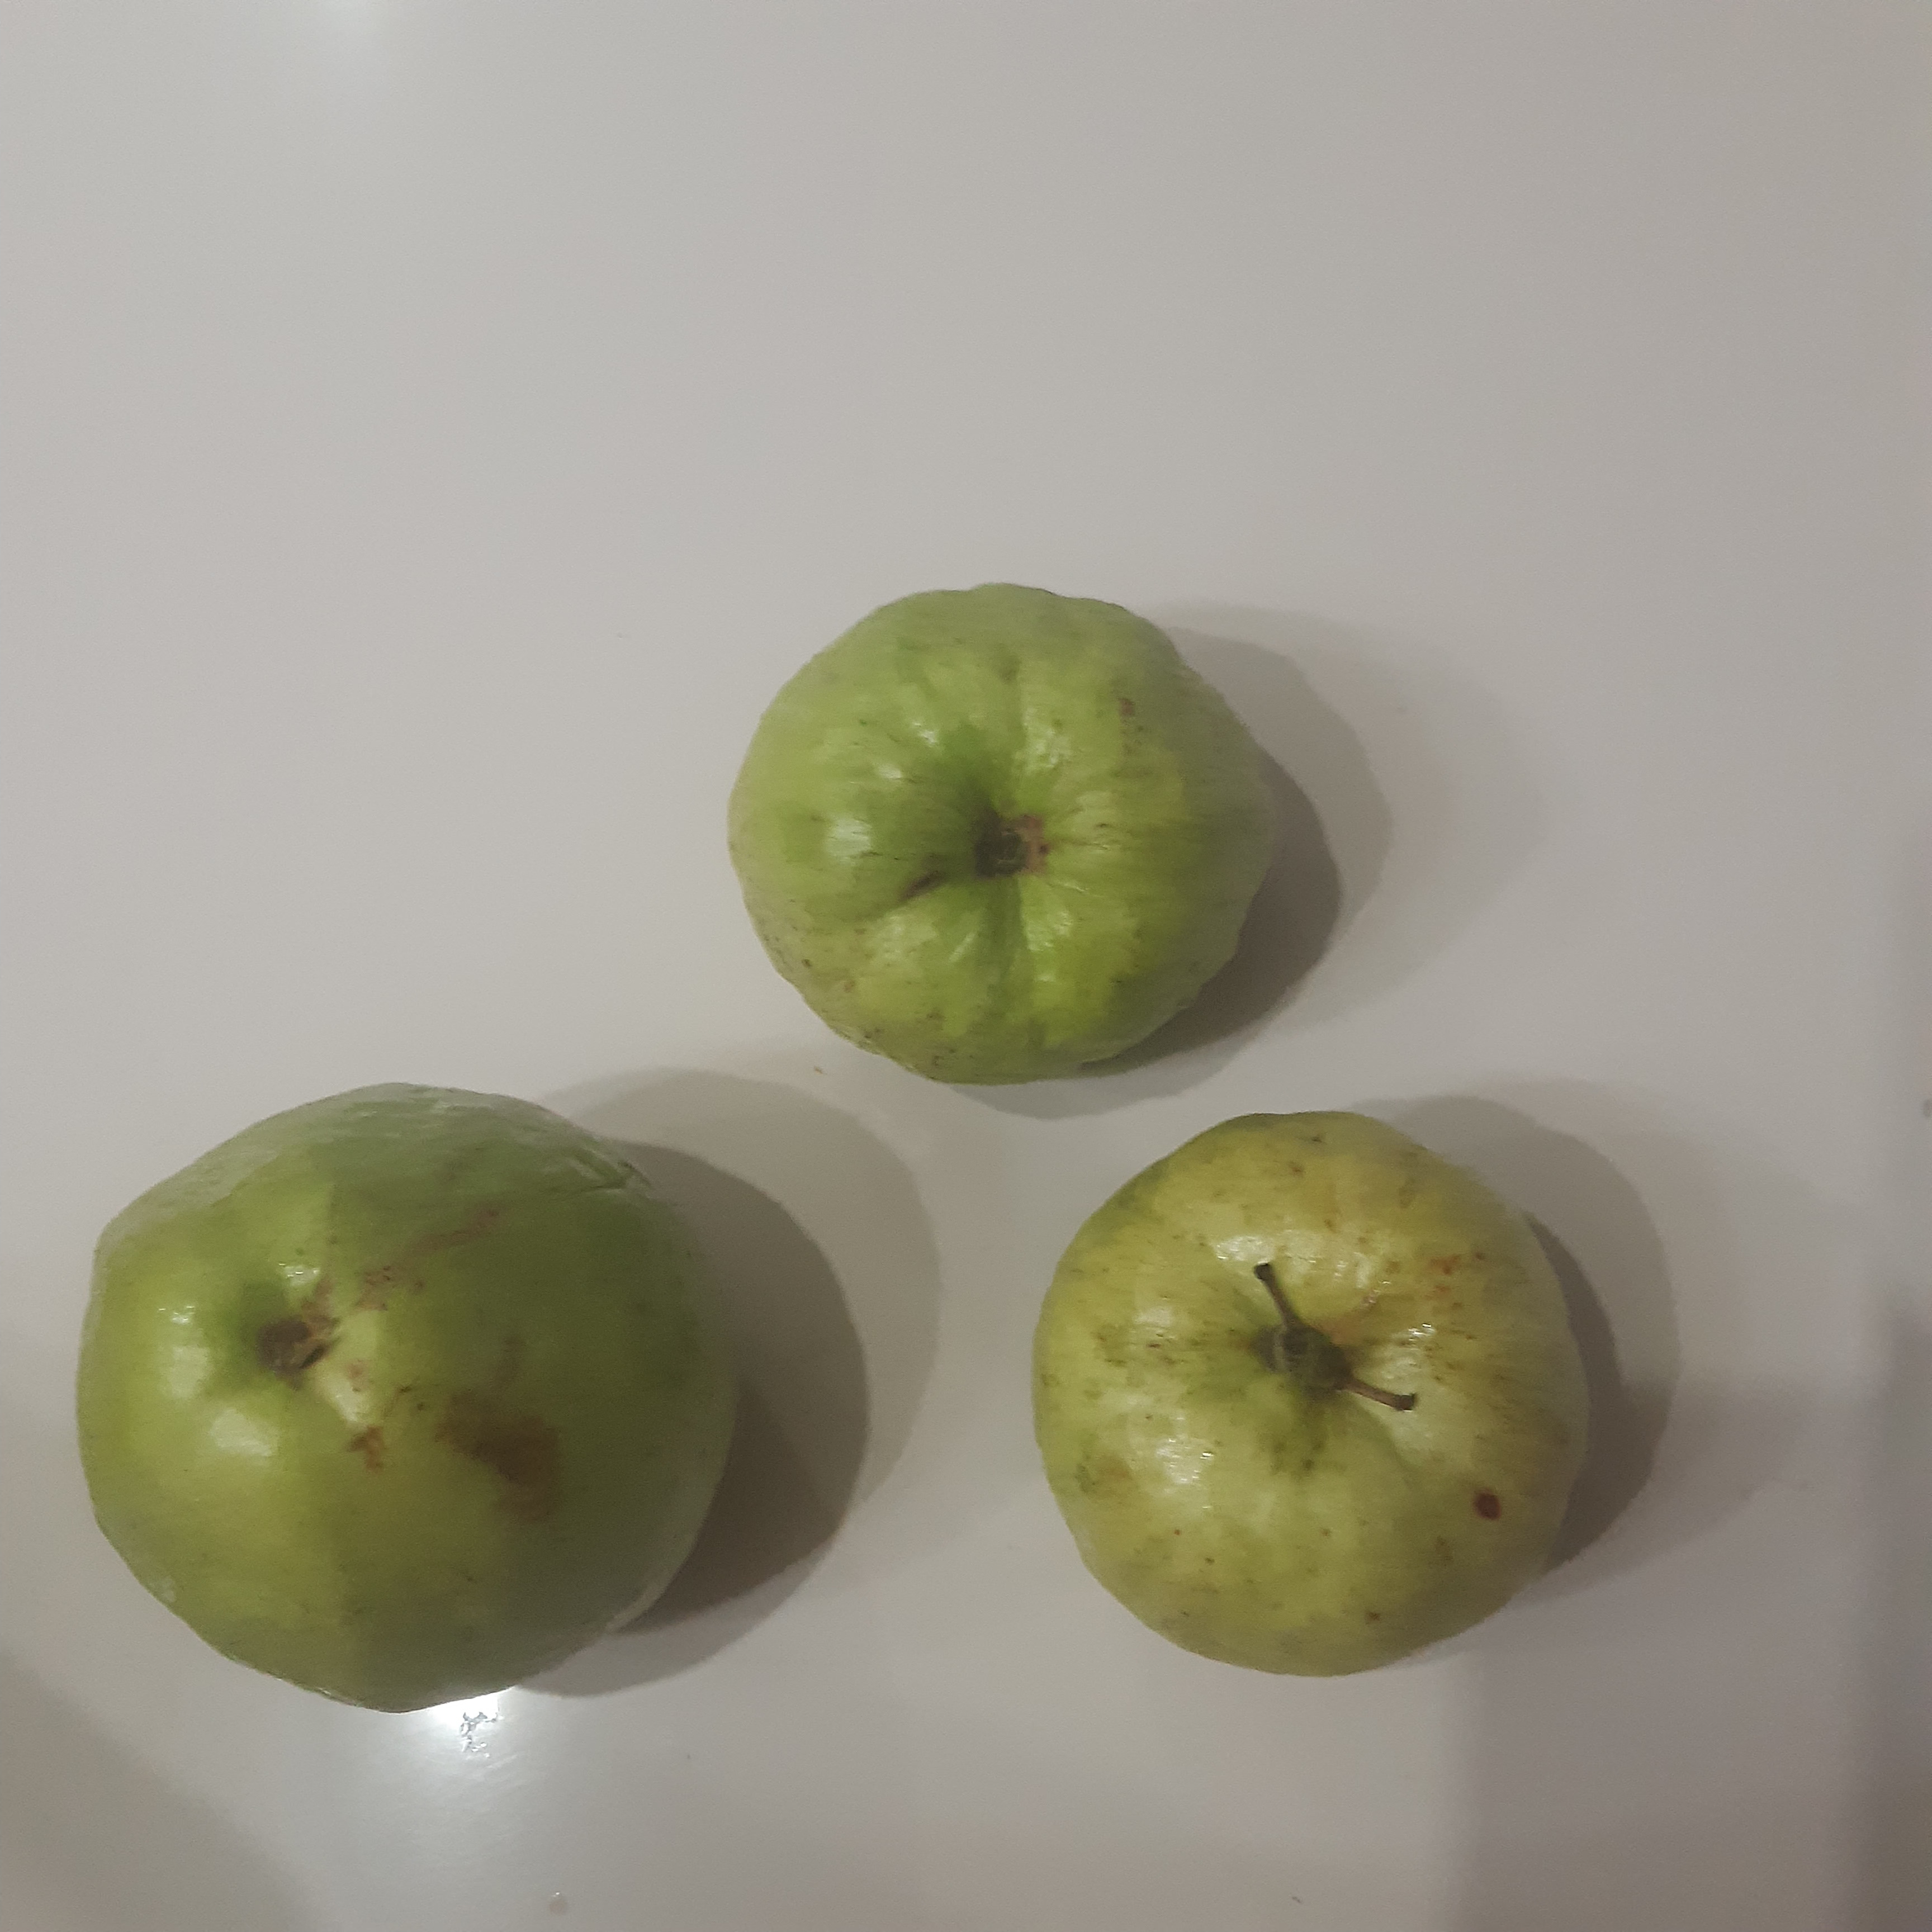Oi: (73, 1079, 740, 1711), (1031, 1113, 1594, 1675), (727, 586, 1279, 1088)
